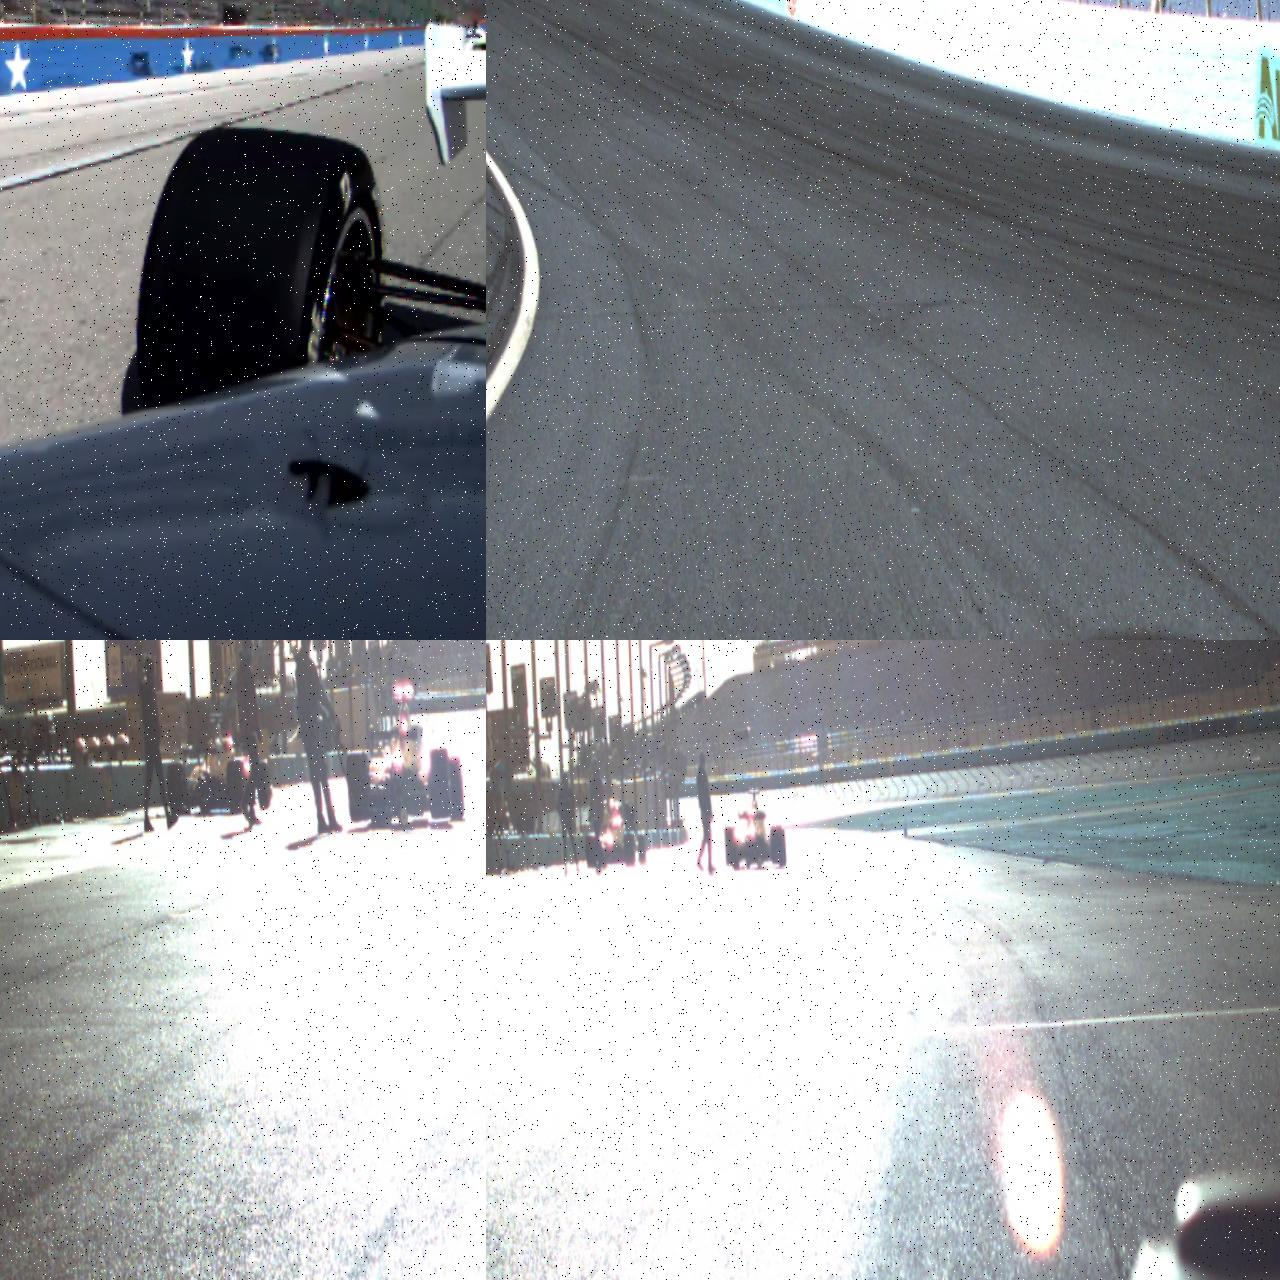AV: (345, 681, 464, 824), (164, 710, 272, 816), (722, 785, 787, 869), (583, 797, 646, 869), (463, 18, 486, 50)
Wheel: (129, 121, 388, 399), (347, 749, 373, 821), (429, 749, 450, 819), (444, 757, 463, 819), (166, 761, 188, 816), (226, 760, 246, 813), (257, 760, 271, 810), (769, 825, 783, 862), (585, 832, 597, 869), (724, 828, 735, 865), (624, 833, 635, 866), (638, 833, 646, 863)
